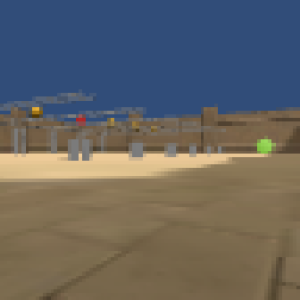badGoal: (73, 114, 86, 127)
goodGoal: (256, 137, 274, 156)
goodGoalMulti: (27, 105, 44, 118), (129, 116, 143, 131), (105, 116, 116, 130), (150, 124, 157, 132)
wall: (13, 125, 27, 157), (47, 127, 58, 153), (81, 138, 92, 161), (68, 138, 78, 162), (130, 141, 143, 158), (165, 141, 177, 155), (188, 144, 197, 156), (204, 146, 212, 154), (217, 145, 223, 154)
